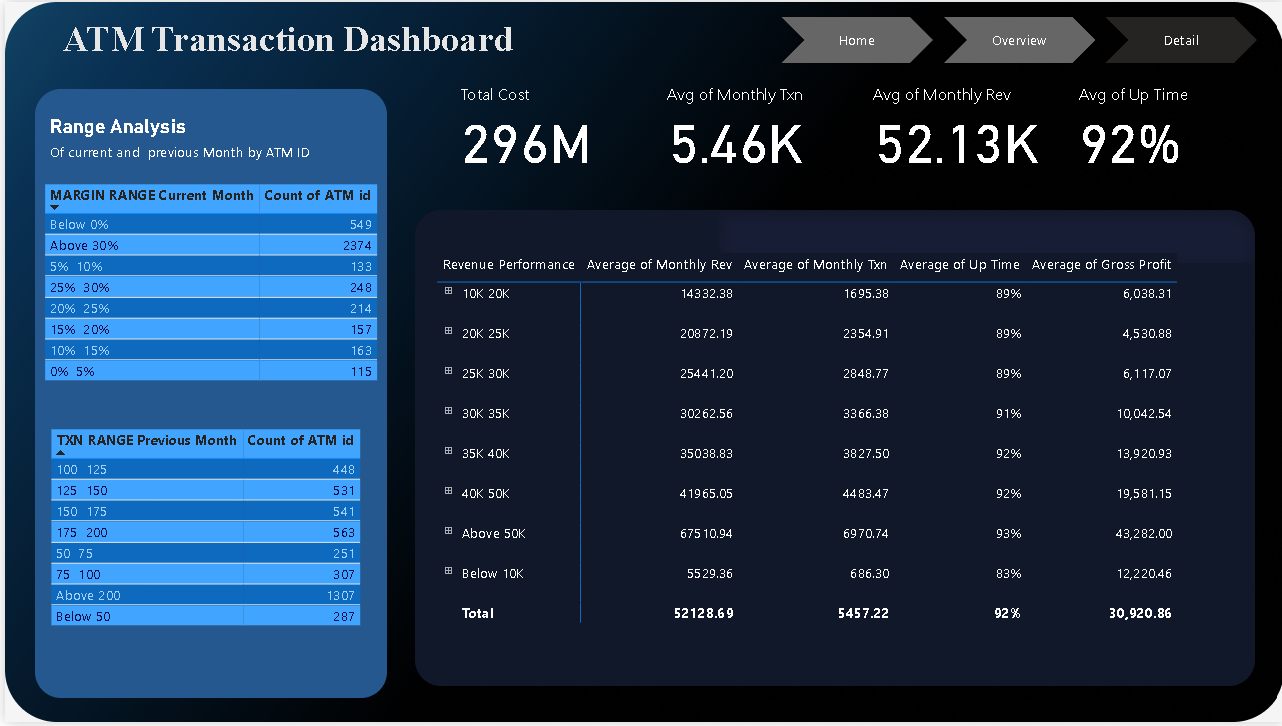

What the dashboard file says about the page in this screenshot:
{"tool":"powerbi","page":{"name":"Detail","canvas":[1280,720],"ordinal":2},"visuals":[{"type":"tableEx","fields":{"Values":["Dataset.MARGIN RANGE Current Month","Dataset.ATM id"]},"box":[33.3,177.8,348.9,221.1],"z":0},{"type":"tableEx","fields":{"Values":["Dataset.TXN RANGE Previous Month","Dataset.ATM id"]},"box":[40,422.2,334.4,215.6],"z":1000},{"type":"textbox","title":"Range Analysis","box":[40,113.3,335.6,82.2],"z":2000},{"type":"pivotTable","fields":{"Rows":["Dataset.Revenue Performance","Dataset.STATE"],"Values":["Avg(Dataset.Monthly Rev)","Avg(Dataset.Monthly Txn)","Avg(Dataset.Up Time)","Avg(Dataset. Gross Profit )"]},"box":[427.1,245.7,852.9,457.1],"z":3000},{"type":"cardVisual","fields":{"Data":["Sum(Dataset. Total Cost  )","Avg(Dataset.Monthly Txn)","Avg(Dataset.Monthly Rev)","Avg(Dataset.Up Time)"]},"box":[438.9,48.9,828.9,154.4],"z":3001},{"type":"pageNavigator","box":[776.7,14.4,477.8,46.7],"z":3002},{"type":"textbox","title":"ATM Transaction Dashboard","box":[53.1,14.6,948.5,46.9],"z":3003}]}

Visuals, with their boxes in screenshot pixels (x1, y1, x2, y2), scaled from the page's 1280x720 canvas onto the 1282x726 screenshot:
tableEx - Dataset.MARGIN RANGE Current Month x Dataset.ATM id: BBox(33, 179, 383, 402)
tableEx - Dataset.TXN RANGE Previous Month x Dataset.ATM id: BBox(40, 426, 375, 643)
"Range Analysis" textbox: BBox(40, 114, 376, 197)
pivotTable - Dataset.Revenue Performance x Dataset.STATE: BBox(428, 248, 1281, 709)
cardVisual - Sum(Dataset. Total Cost  ) x Avg(Dataset.Monthly Txn): BBox(440, 49, 1270, 205)
pageNavigator: BBox(778, 15, 1256, 62)
"ATM Transaction Dashboard" textbox: BBox(53, 15, 1003, 62)
